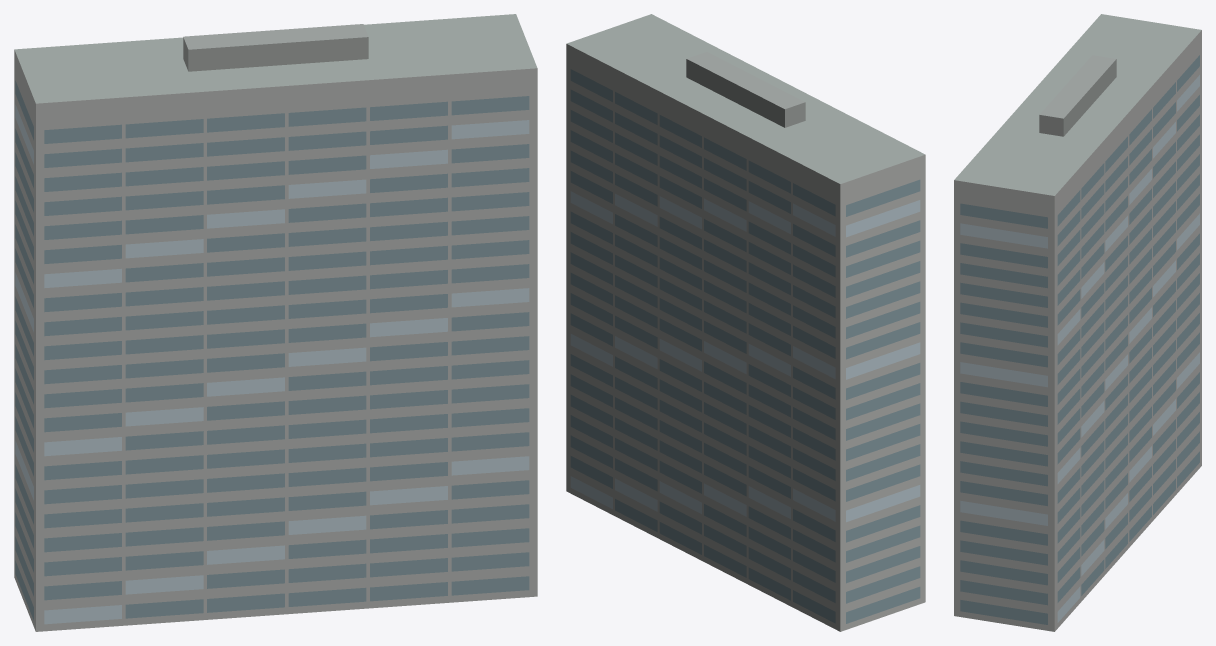
File: fallback-jamsil-els-161.glb
3 views of the same model, side by side, from view 1: azimuth 30°, elevation 25°; view 2: azimuth 150°, elevation 25°; view 3: azimuth 270°, elevation 25° (orthographic). The views are drawn at different scales.
Parts seen in each view (by area): view 1: fallback-jamsil-els-161; view 2: fallback-jamsil-els-161; view 3: fallback-jamsil-els-161.
Boxes of the visible parts, left/top/right/bottom form: fallback-jamsil-els-161: left=14, top=14, right=537, bottom=631; fallback-jamsil-els-161: left=566, top=14, right=925, bottom=631; fallback-jamsil-els-161: left=954, top=14, right=1201, bottom=631.
Bounding box in the file's own units: 51.58 × 60 × 29.68.
